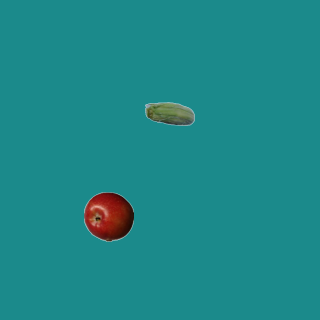Apple Braeburn: (83, 191, 133, 241)
Corn Husk: (144, 90, 194, 140)
